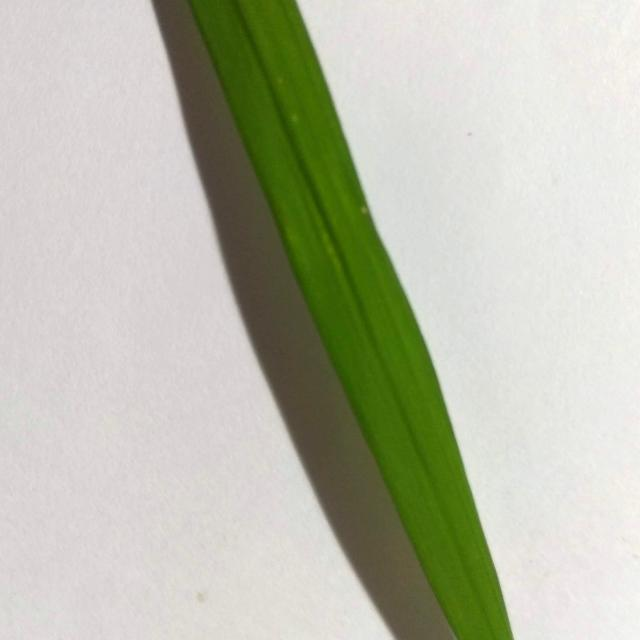Rice_Healthy: (190, 0, 513, 640)
